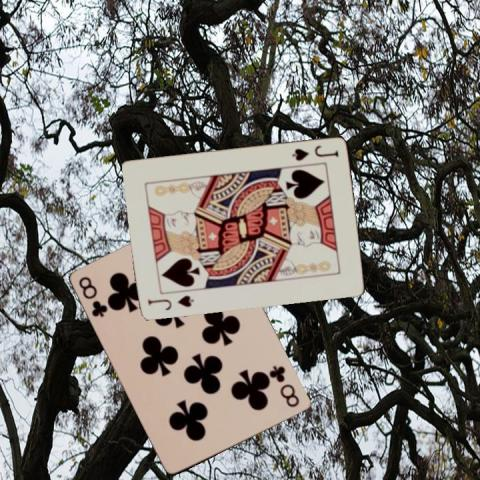8c: (76, 273, 109, 320), (268, 363, 301, 409)
Js: (289, 141, 340, 162), (145, 292, 196, 312)
